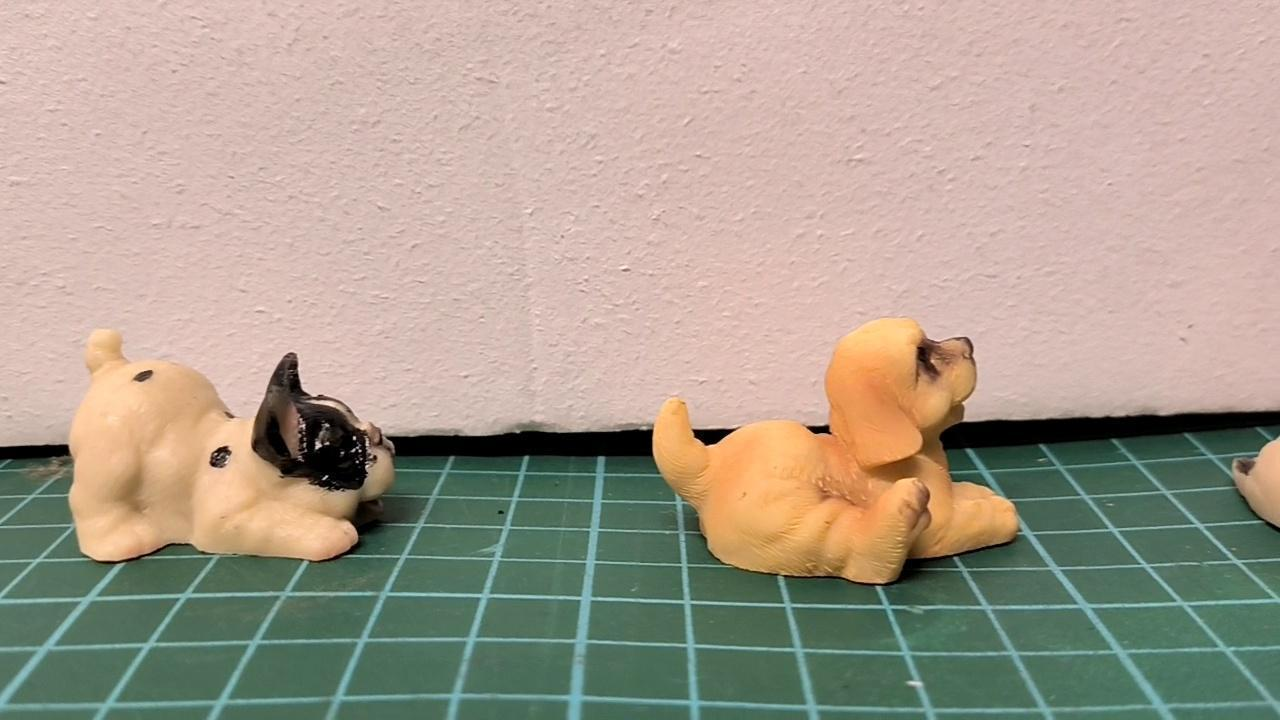pet: (650, 317, 1020, 587), (69, 324, 395, 565)
